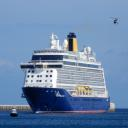cruises: (21, 31, 113, 115)
